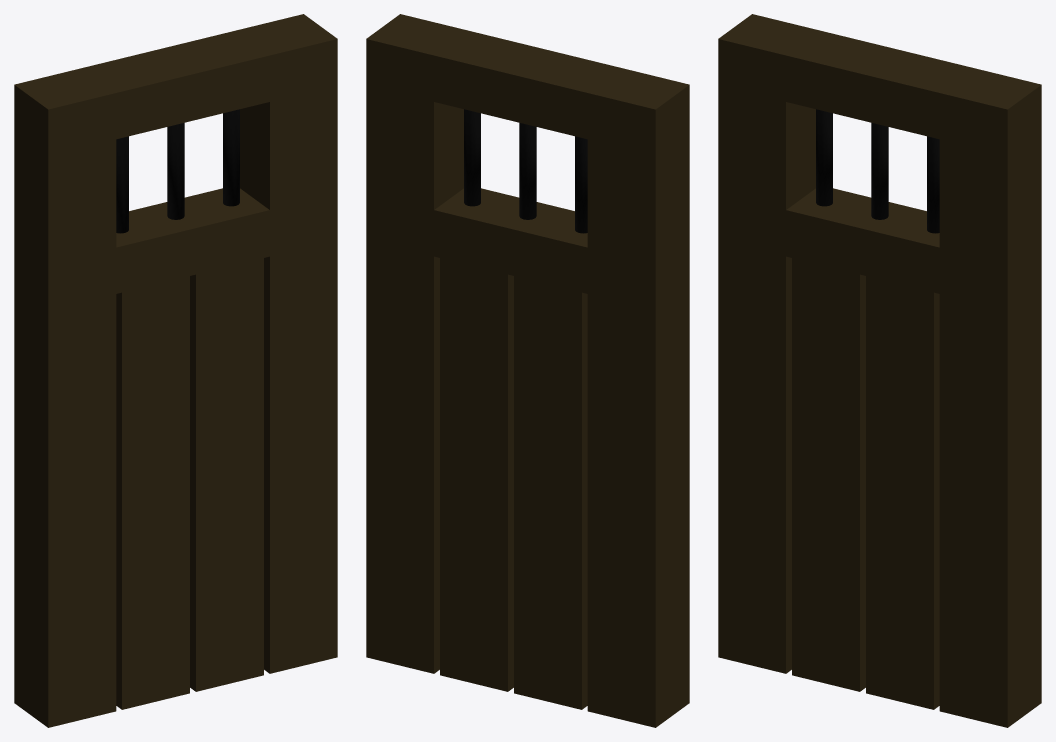
The model's file is door.glb.
3 renders of one model, left to right at view 1: azimuth 30°, elevation 25°; view 2: azimuth 150°, elevation 25°; view 3: azimuth 330°, elevation 25°, orthographic.
Parts seen in each view (by area): view 1: Cube.010; view 2: Cube.010; view 3: Cube.010.
Part boxes in pixels (left/top/right/bottom): Cube.010: left=14, top=14, right=337, bottom=727; Cube.010: left=366, top=14, right=689, bottom=727; Cube.010: left=718, top=14, right=1041, bottom=727.
Bounding box in the file's own units: 0.98 × 2 × 0.2.
